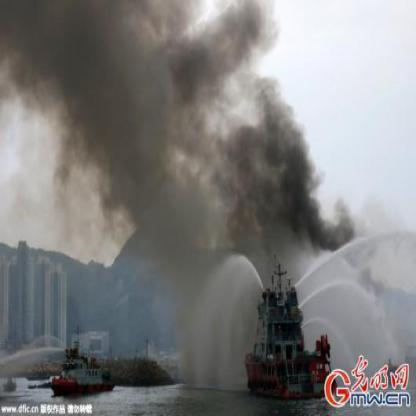smoke: (52, 3, 206, 140), (110, 150, 192, 252), (218, 133, 312, 219), (4, 8, 43, 80), (216, 16, 260, 70)
